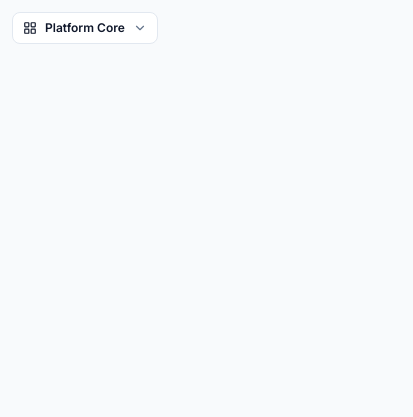
Test case: US-01.4 Unified Module Switcher & US-01.5 Org-Level Graceful Fallback › shows locked add-ons for Tenant Admin and routes module switches
Later steps or results of the test are not shown.
Click the button with aria-label "switch metrix module".
click(85, 28)  # box [12, 12, 158, 44]
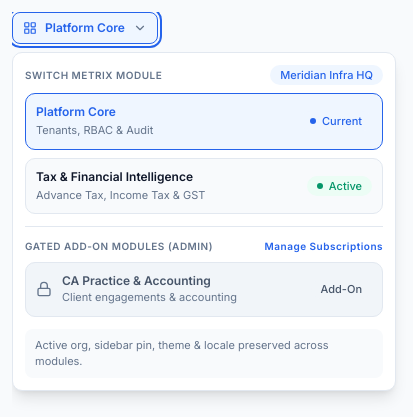
Expected: the text "Tax & Financial Intelligence" is shown, [36, 168, 205, 184]
Expected: the text "CA Practice & Accounting" is shown, [62, 273, 237, 289]
